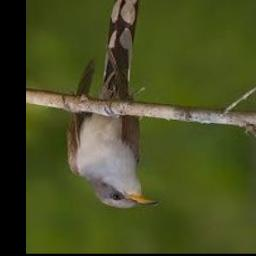Cuckoo: (66, 0, 160, 209)
